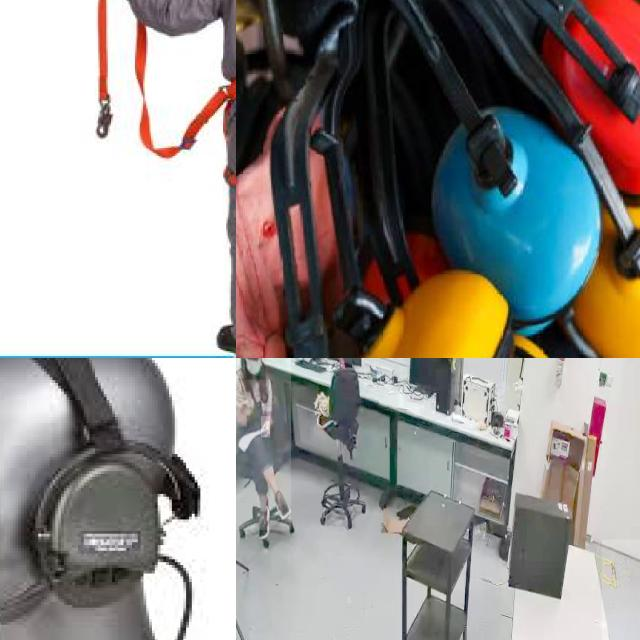Ear-protection: (0, 358, 199, 605), (420, 82, 610, 308), (348, 274, 621, 358), (521, 0, 640, 181), (572, 196, 640, 358), (253, 282, 384, 358)
face_mask: (244, 358, 265, 380)
hand_noglove: (261, 416, 271, 438)
person: (236, 358, 291, 530)
shoes: (255, 498, 275, 548), (272, 487, 293, 523)
